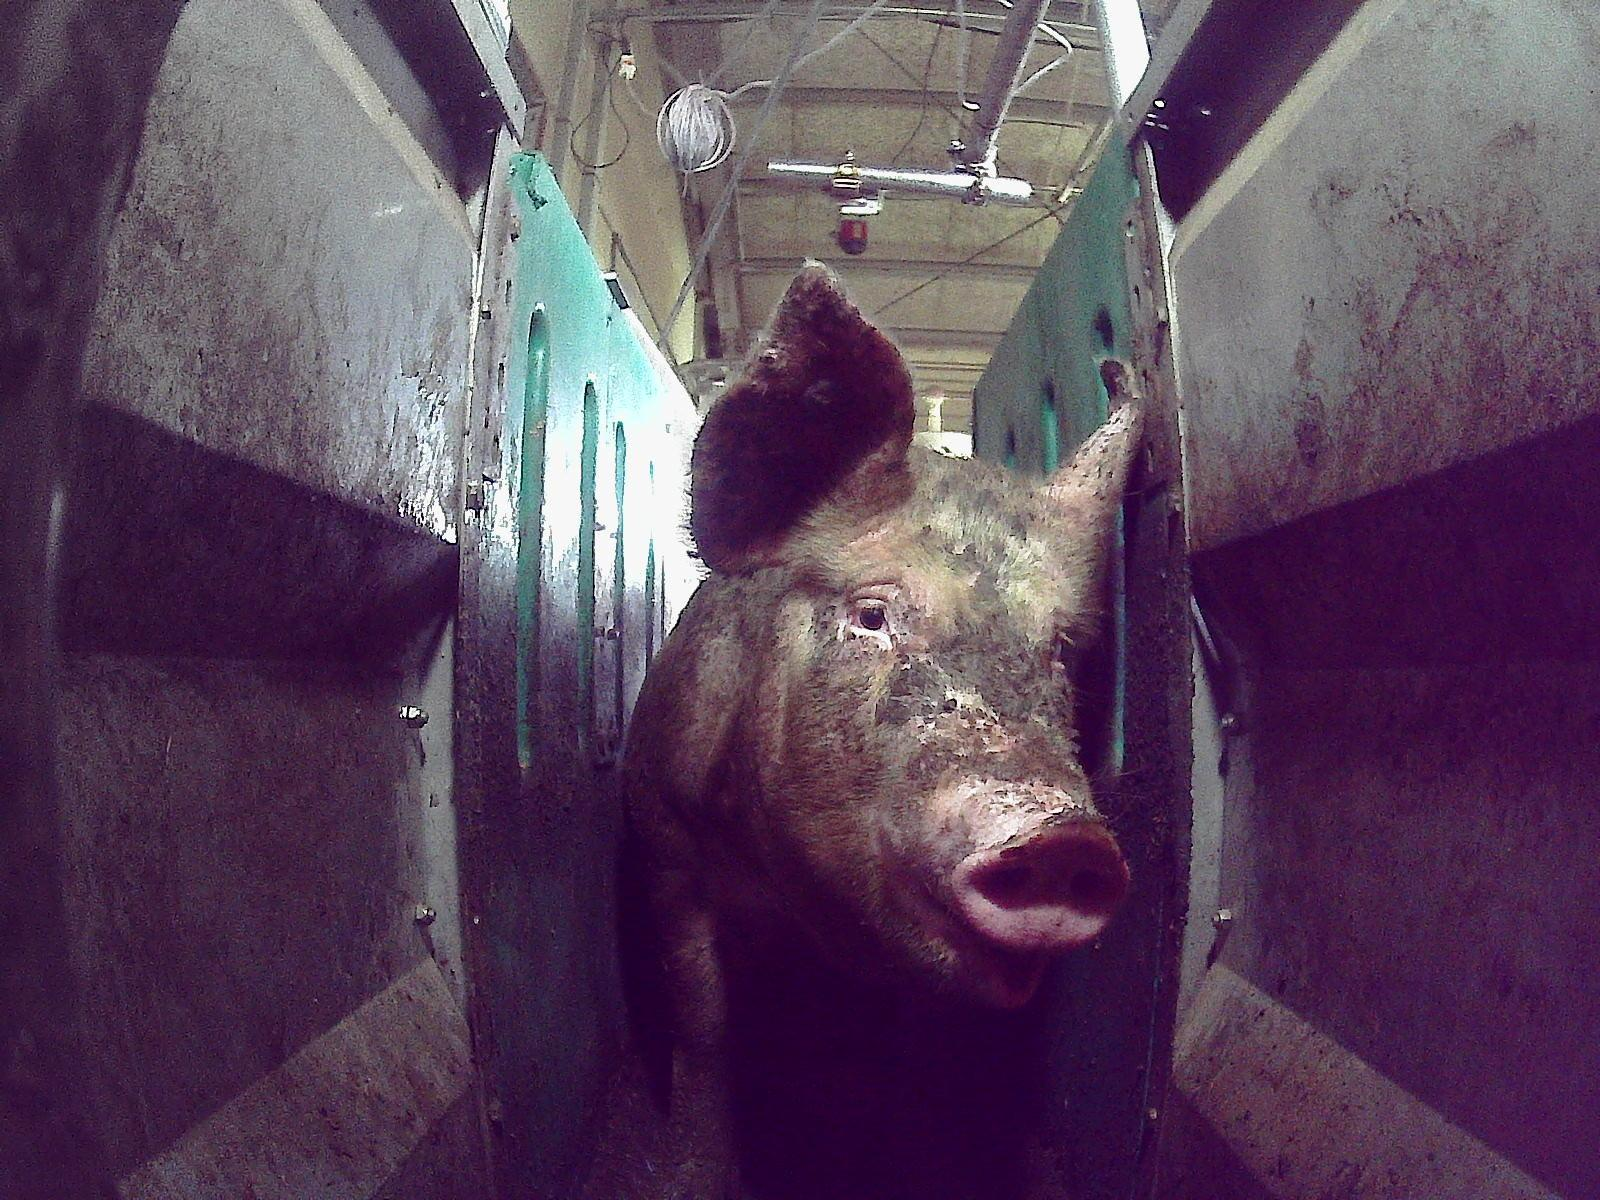Face: (707, 443, 1133, 1012)
